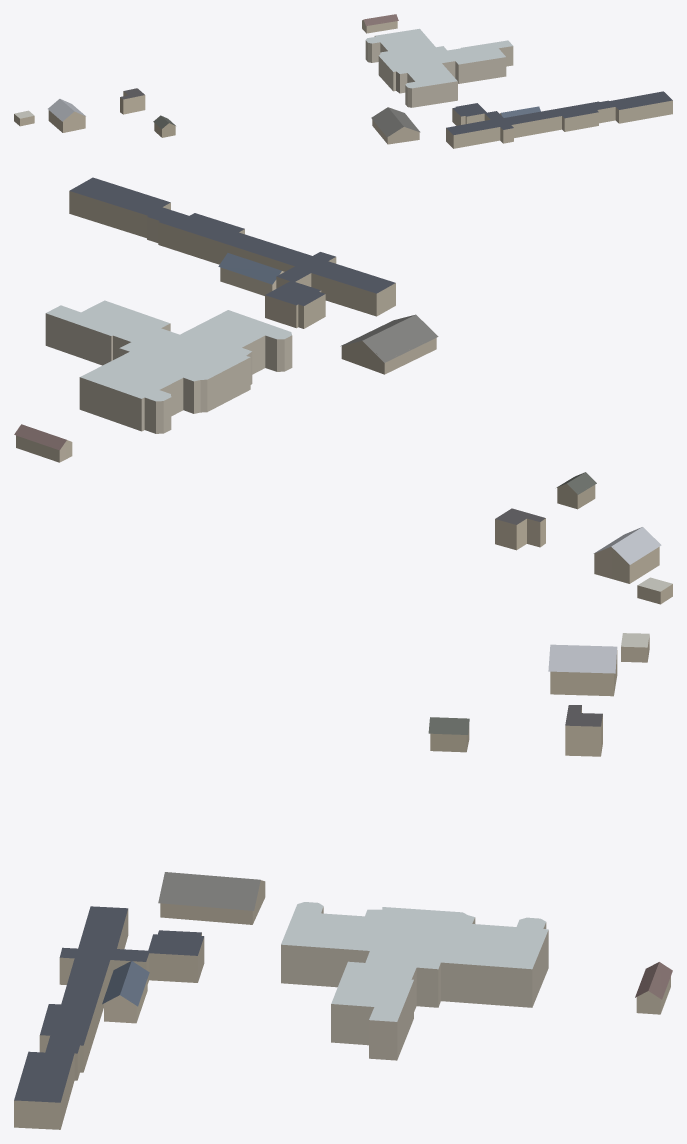
3 views of the same model, one above another, from view 1: azimuth 30°, elevation 25°; view 2: azimuth 150°, elevation 25°; view 3: azimuth 270°, elevation 25° (orthographic). The views are drawn at different scales.
Parts seen in each view (by area): view 1: tuile; view 2: tuile; view 3: tuile.
Part boxes in pixels (x1,y1,x2,y2): tuile: (14,14,672,148); tuile: (14,177,672,604); tuile: (14,633,672,1129).
Bounding box in the file's own units: 232 × 9.96 × 133.
